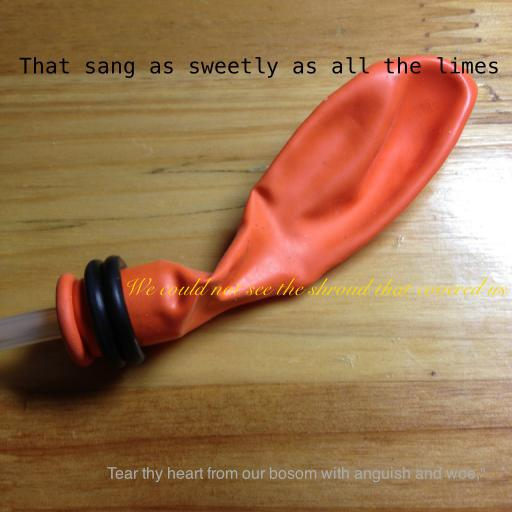Apple Chancery: (106, 467, 486, 483)
Menlo: (18, 57, 500, 78)
Snell Roundhand: (123, 277, 507, 296)
